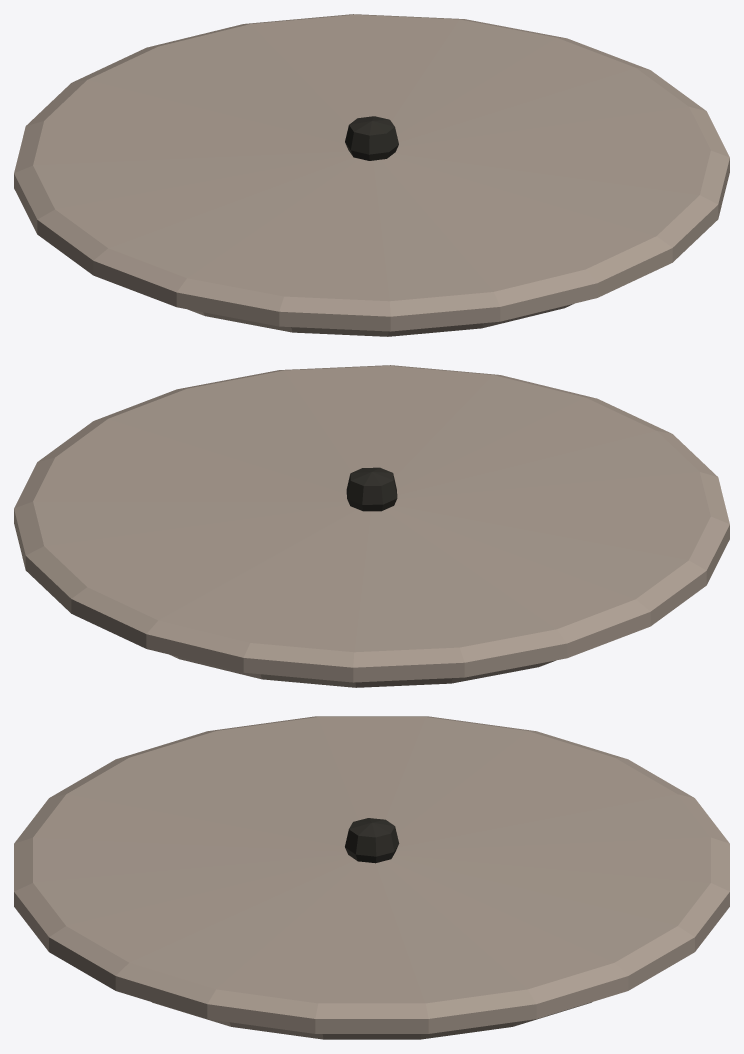
Rendered from SM_Cook_PotLid_01.fbx.
The picture shows the model from 3 angles, top to bottom: view 1: azimuth 30°, elevation 25°; view 2: azimuth 150°, elevation 25°; view 3: azimuth 270°, elevation 25°; orthographic projection.
Visible parts, largest first — view 1: SM_Cook_PotLid_01; view 2: SM_Cook_PotLid_01; view 3: SM_Cook_PotLid_01.
Part boxes in pixels (x1=…): SM_Cook_PotLid_01: x1=14, y1=14, x2=729, y2=336; SM_Cook_PotLid_01: x1=14, y1=365, x2=729, y2=687; SM_Cook_PotLid_01: x1=14, y1=716, x2=729, y2=1039.
Size of the model in its own units: 0.5195 by 0.07 by 0.5195.
Materials: 1 (1 with a texture image).
